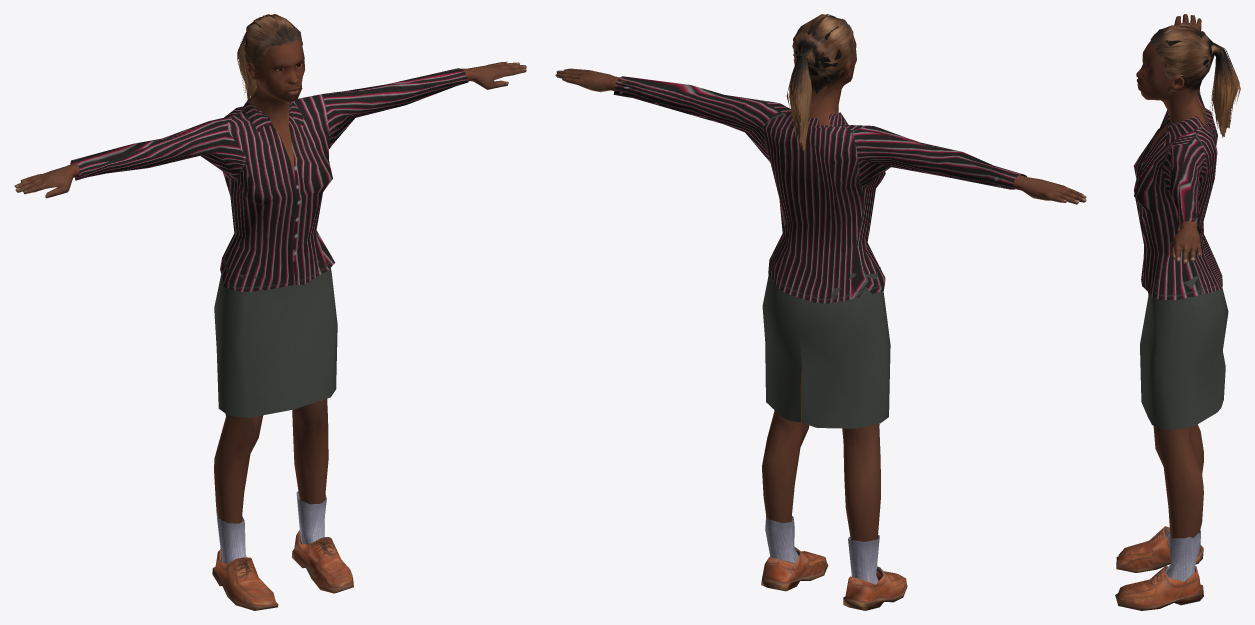
File: black_female_skirt.fbx
3 views of the same model, side by side, from view 1: azimuth 30°, elevation 25°; view 2: azimuth 150°, elevation 25°; view 3: azimuth 270°, elevation 25° (orthographic). The views are drawn at different scales.
Visible parts, largest first — view 1: female_elegantsuit01Mesh, black_human_female_long_shirt_skirtMesh, shoes01Mesh, ponytail01Mesh; view 2: female_elegantsuit01Mesh, black_human_female_long_shirt_skirtMesh, shoes01Mesh, ponytail01Mesh; view 3: female_elegantsuit01Mesh, black_human_female_long_shirt_skirtMesh, shoes01Mesh, ponytail01Mesh.
Boxes of the visible parts, left/top/right/bottom form: female_elegantsuit01Mesh: left=70, top=68, right=468, bottom=417; black_human_female_long_shirt_skirtMesh: left=14, top=21, right=526, bottom=523; shoes01Mesh: left=212, top=491, right=353, bottom=610; ponytail01Mesh: left=237, top=14, right=302, bottom=99; female_elegantsuit01Mesh: left=613, top=76, right=1026, bottom=428; black_human_female_long_shirt_skirtMesh: left=555, top=26, right=1086, bottom=541; shoes01Mesh: left=761, top=516, right=907, bottom=610; ponytail01Mesh: left=786, top=14, right=853, bottom=151; female_elegantsuit01Mesh: left=1133, top=88, right=1228, bottom=429; black_human_female_long_shirt_skirtMesh: left=1136, top=14, right=1208, bottom=538; shoes01Mesh: left=1115, top=526, right=1203, bottom=610; ponytail01Mesh: left=1150, top=24, right=1240, bottom=137.
Size of the model in its own units: 160 by 168 by 34.26.
